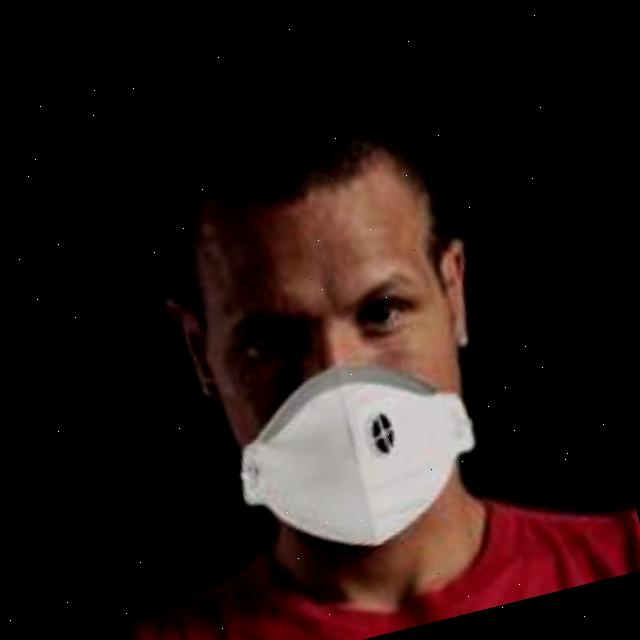suspicion: (71, 26, 554, 614)
